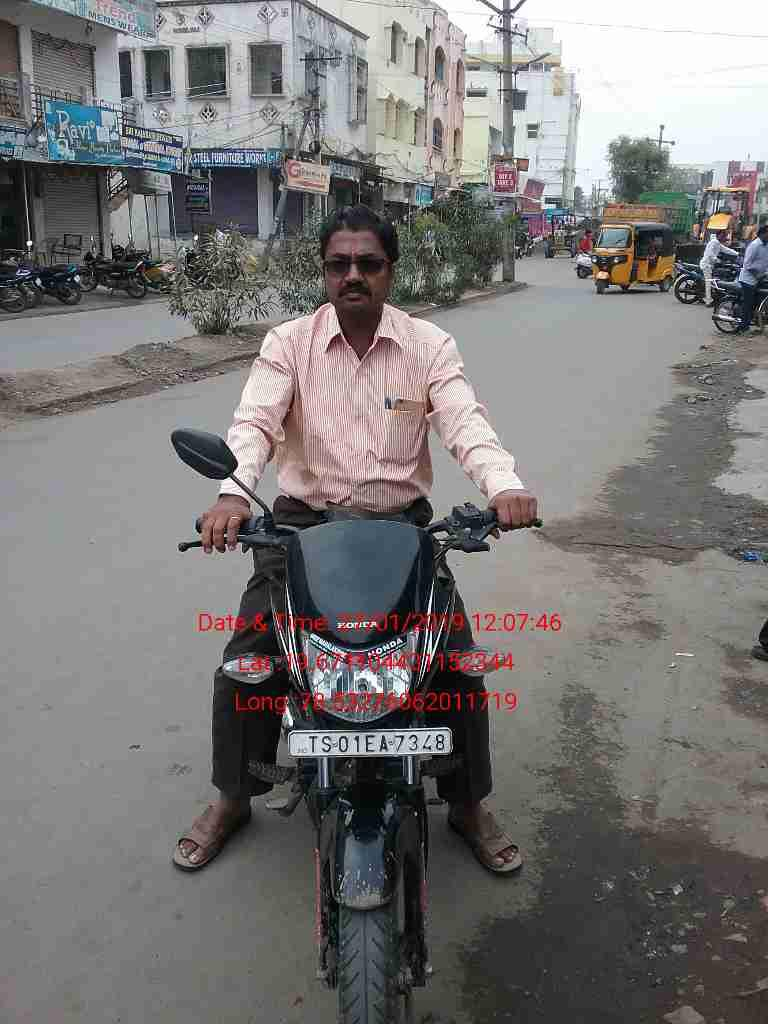plate: (279, 727, 460, 761)
